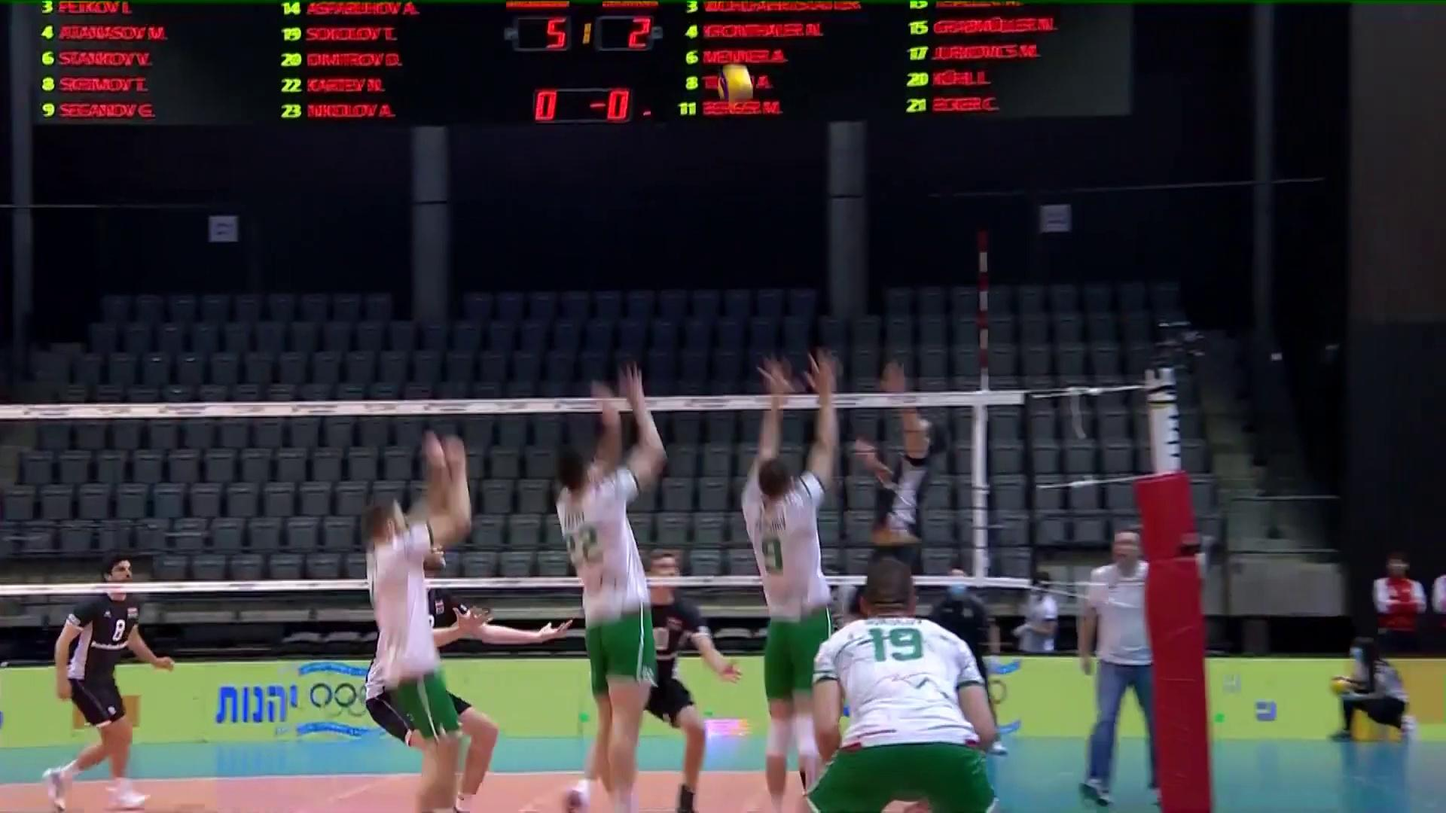ball: (715, 64, 753, 102)
